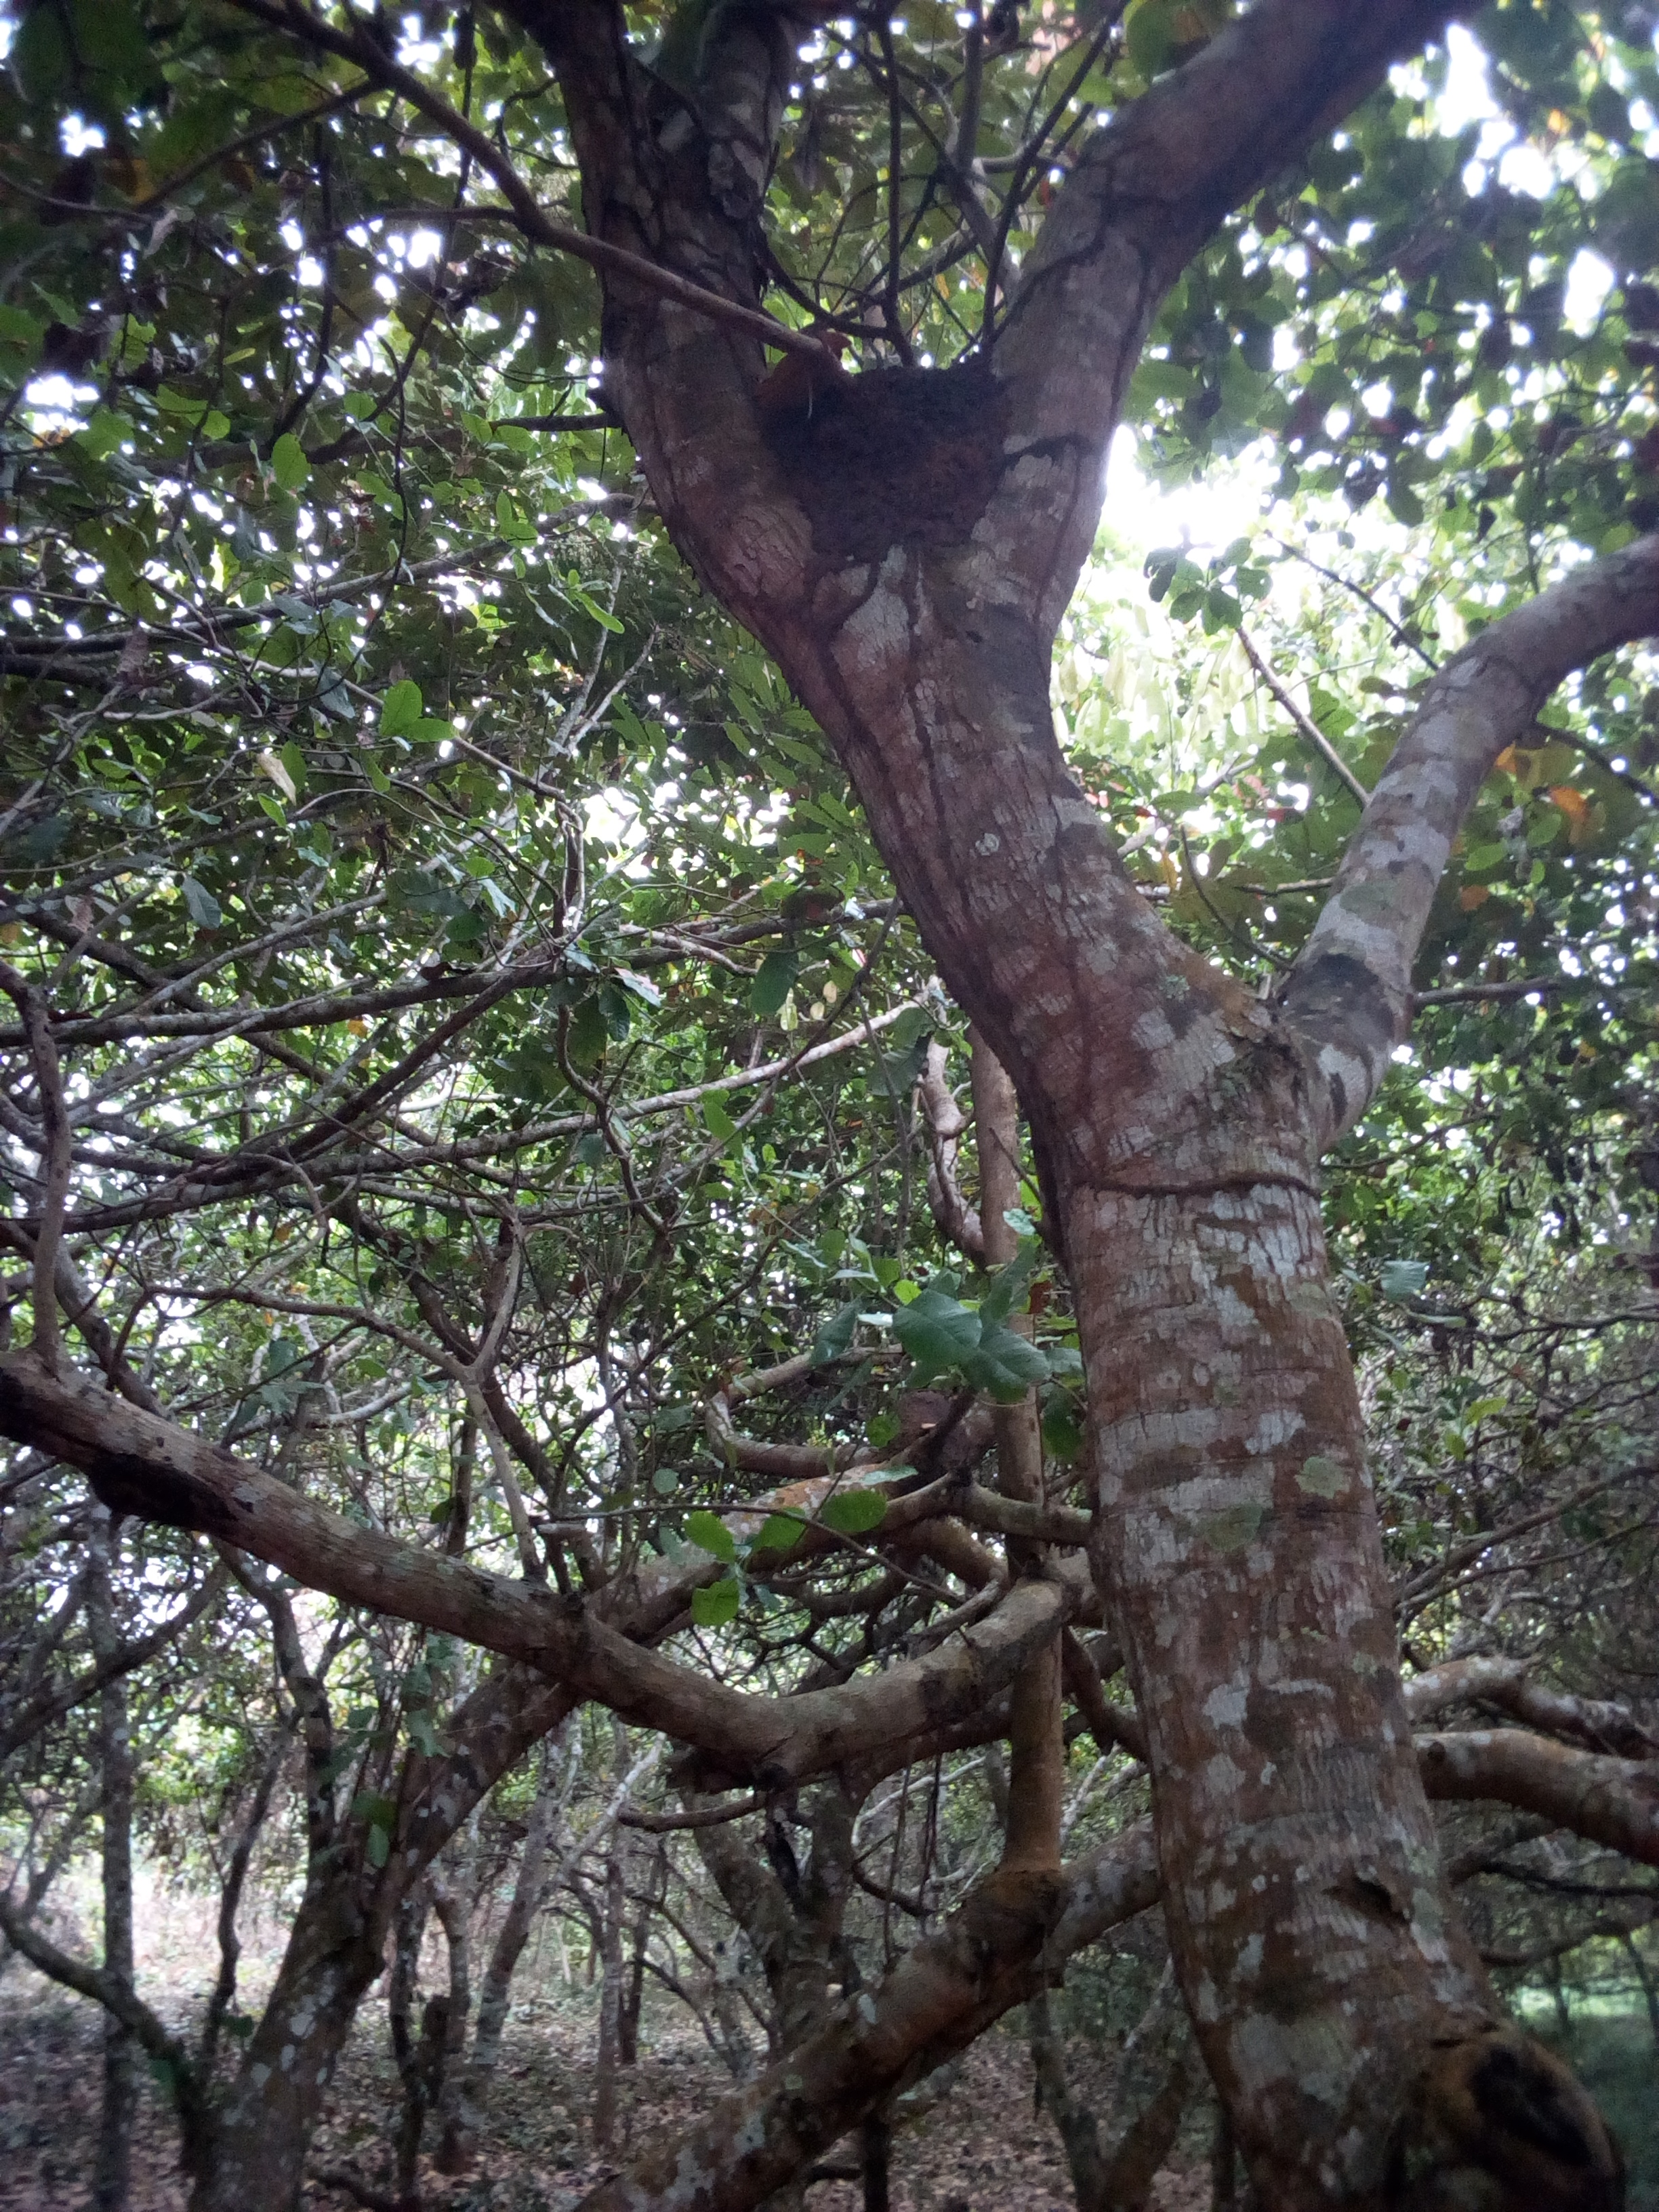Termites: (809, 343, 1002, 561), (999, 1001, 1114, 1224), (863, 702, 958, 902)
